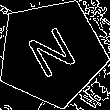N_SE: (21, 21, 82, 85)
